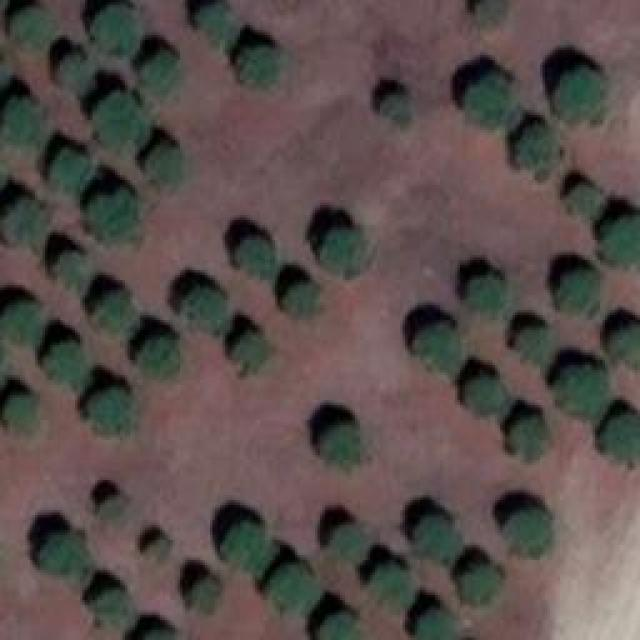Tree: (550, 68, 610, 128), (93, 85, 146, 150), (550, 360, 608, 418), (85, 188, 138, 243), (95, 3, 145, 56), (465, 70, 510, 125), (555, 268, 603, 318), (412, 513, 460, 563), (413, 325, 463, 373), (600, 410, 640, 470), (320, 227, 370, 275), (505, 505, 550, 558), (2, 5, 50, 53), (220, 520, 268, 568), (518, 123, 561, 176), (3, 98, 48, 148), (175, 288, 225, 333), (600, 215, 640, 270), (365, 557, 410, 605), (87, 390, 135, 435), (145, 50, 183, 105), (143, 142, 186, 190), (320, 422, 363, 470), (510, 415, 553, 463), (38, 343, 83, 388), (0, 197, 42, 244), (48, 148, 91, 193), (460, 563, 503, 608), (95, 293, 138, 338), (235, 45, 280, 88), (40, 533, 85, 576), (270, 565, 310, 613), (0, 299, 42, 342), (55, 55, 95, 100), (460, 375, 500, 420), (468, 275, 511, 315), (280, 280, 320, 320), (143, 338, 178, 381), (232, 332, 270, 370), (197, 5, 235, 43), (333, 523, 368, 563), (410, 605, 450, 640), (238, 238, 278, 273), (55, 252, 90, 290), (565, 182, 600, 220), (188, 575, 223, 613), (3, 395, 36, 435), (95, 493, 133, 526), (87, 588, 125, 621), (380, 93, 415, 128), (518, 325, 548, 363), (475, 0, 513, 30), (320, 612, 360, 640), (615, 325, 640, 368), (145, 535, 175, 563), (135, 625, 176, 640)
